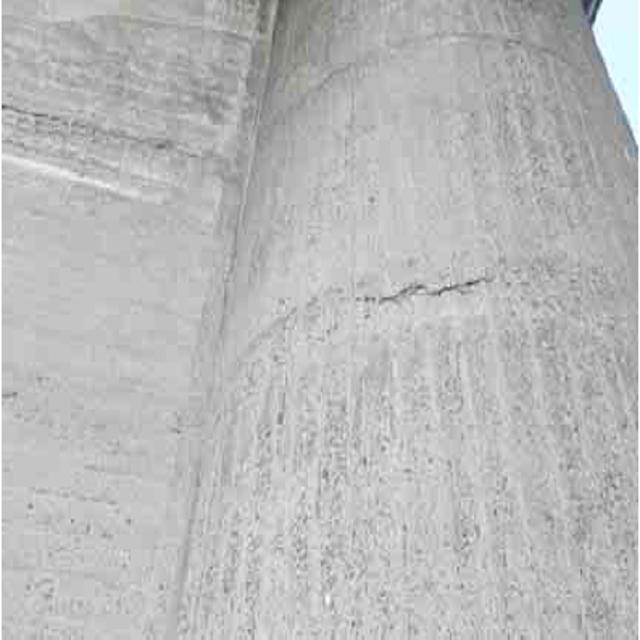leakage: (343, 260, 523, 314)
spalling: (16, 97, 214, 212)
